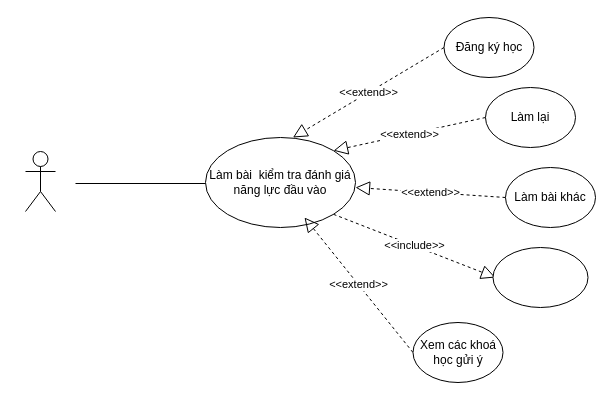
Some shapes in this 613 by 400 pixel diagram are drawn without their labels. The centre of each missing label's shape, as x and y in pixels:
"Học viên" goes at point (40, 181).
"Xem kết quá" goes at point (540, 277).
